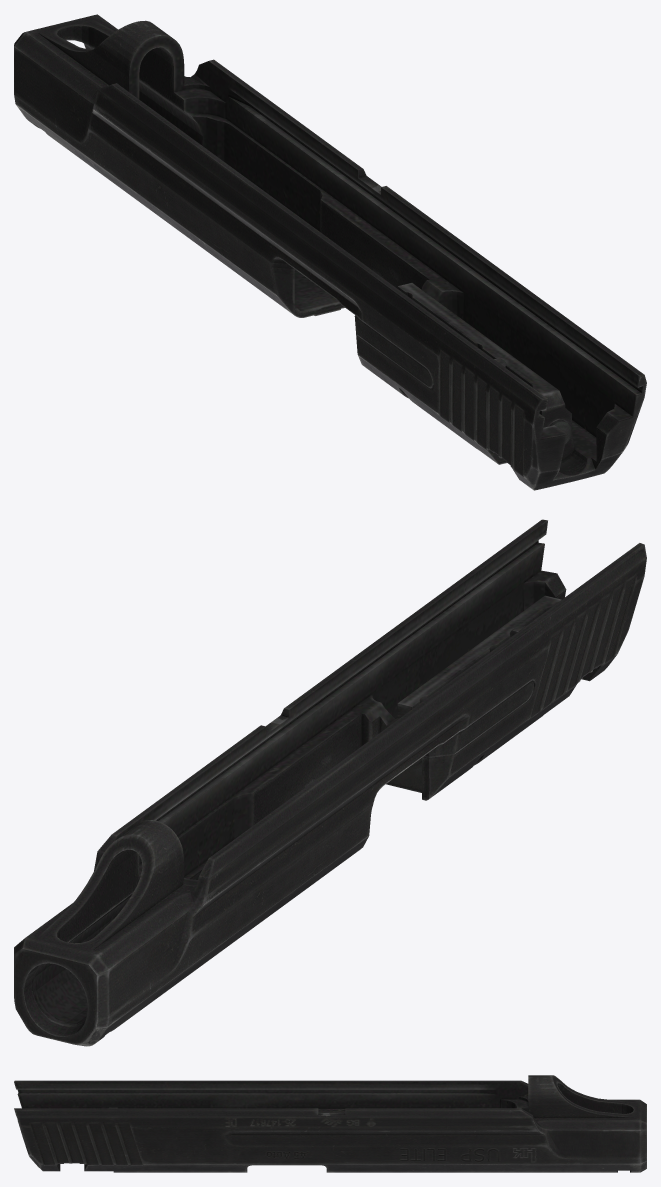
3 views of the same model, one above another, from view 1: azimuth 30°, elevation 25°; view 2: azimuth 150°, elevation 25°; view 3: azimuth 270°, elevation 25° (orthographic). The views are drawn at different scales.
Visible parts, largest first — view 1: TW_6194f5d418a3974e5e7421ef_PZ_Import; view 2: TW_6194f5d418a3974e5e7421ef_PZ_Import; view 3: TW_6194f5d418a3974e5e7421ef_PZ_Import.
Boxes of the visible parts, x1,y1,x2,y2 form: TW_6194f5d418a3974e5e7421ef_PZ_Import: [14, 14, 646, 490]; TW_6194f5d418a3974e5e7421ef_PZ_Import: [14, 519, 646, 1046]; TW_6194f5d418a3974e5e7421ef_PZ_Import: [14, 1075, 646, 1172].
Bounding box in the file's own units: 0.0162 × 0.1356 × 0.021.
Materials: 1 (1 with a texture image).
